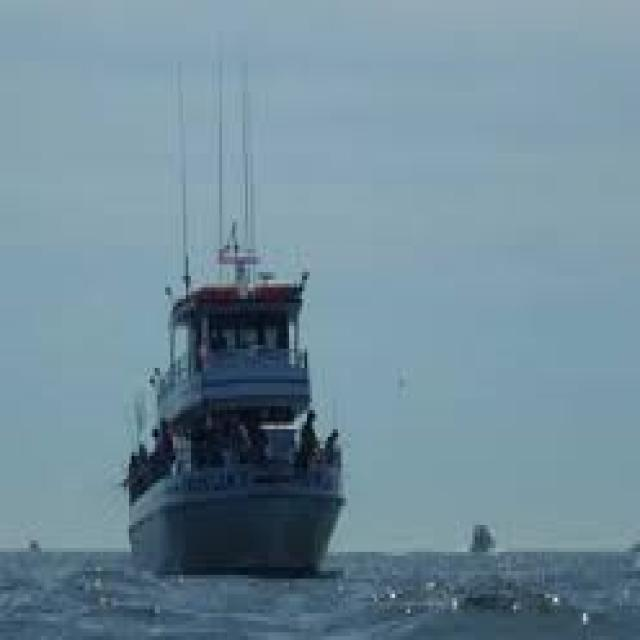passenger ship: (111, 111, 366, 574)
